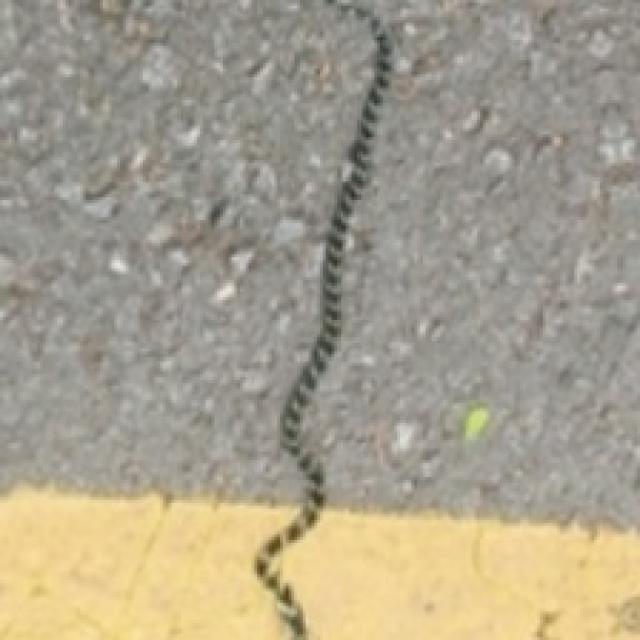king cobra: (254, 0, 389, 637)
